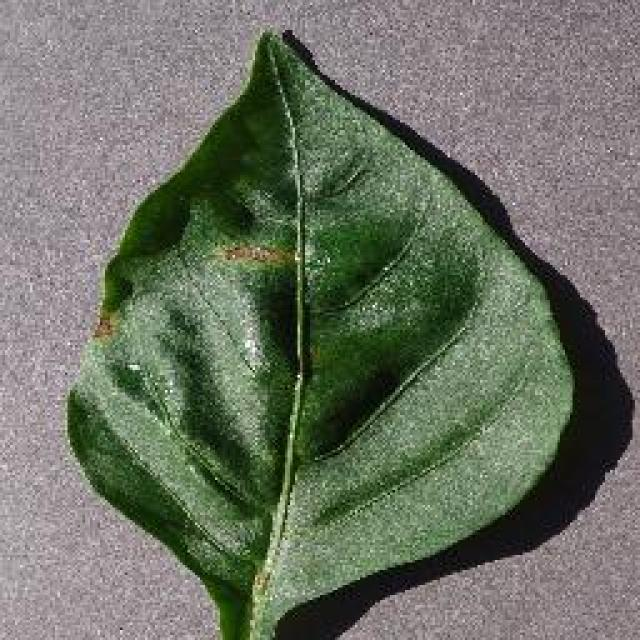Chilli_Bacterial_Spot: (60, 25, 580, 637), (212, 240, 302, 270), (88, 310, 118, 345)
